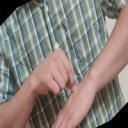hand: (50, 79, 102, 128), (29, 47, 76, 96)
